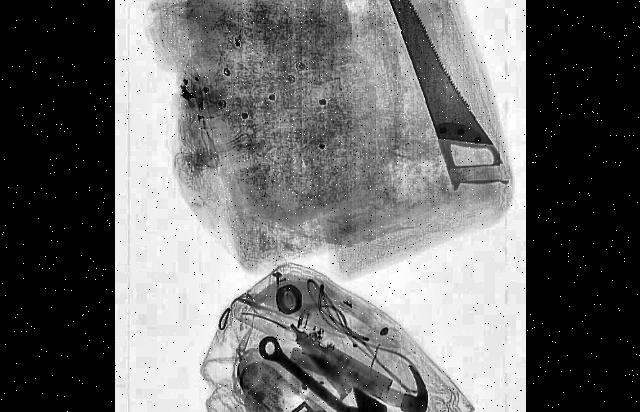Wrench: (256, 329, 366, 412)
